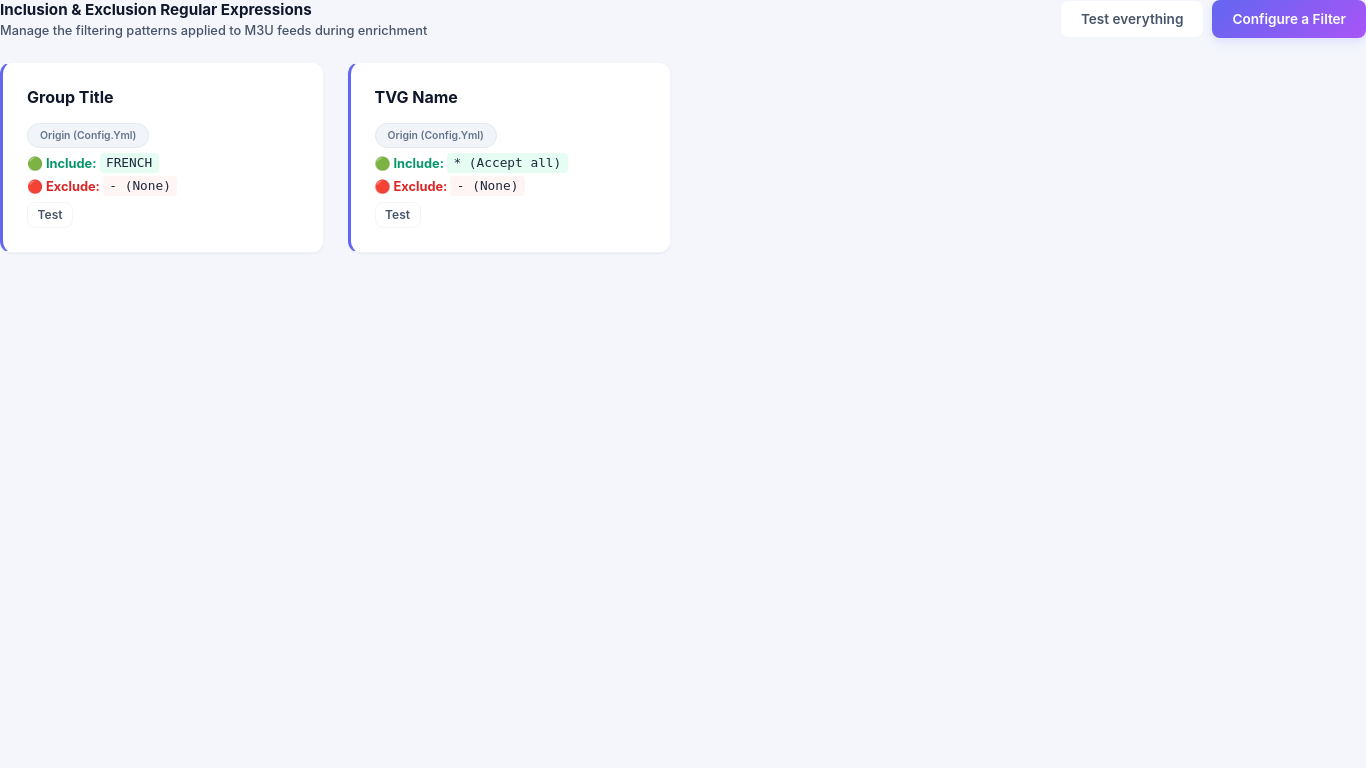
Scenario: FiltersSection › dry-run testing › opens the shared drawer with the origin card's own patterns, without a save/delete request
The image size is (1366, 768).
Click the button "Test" below "FRENCH".
click(50, 215)  # box [27,202,73,228]
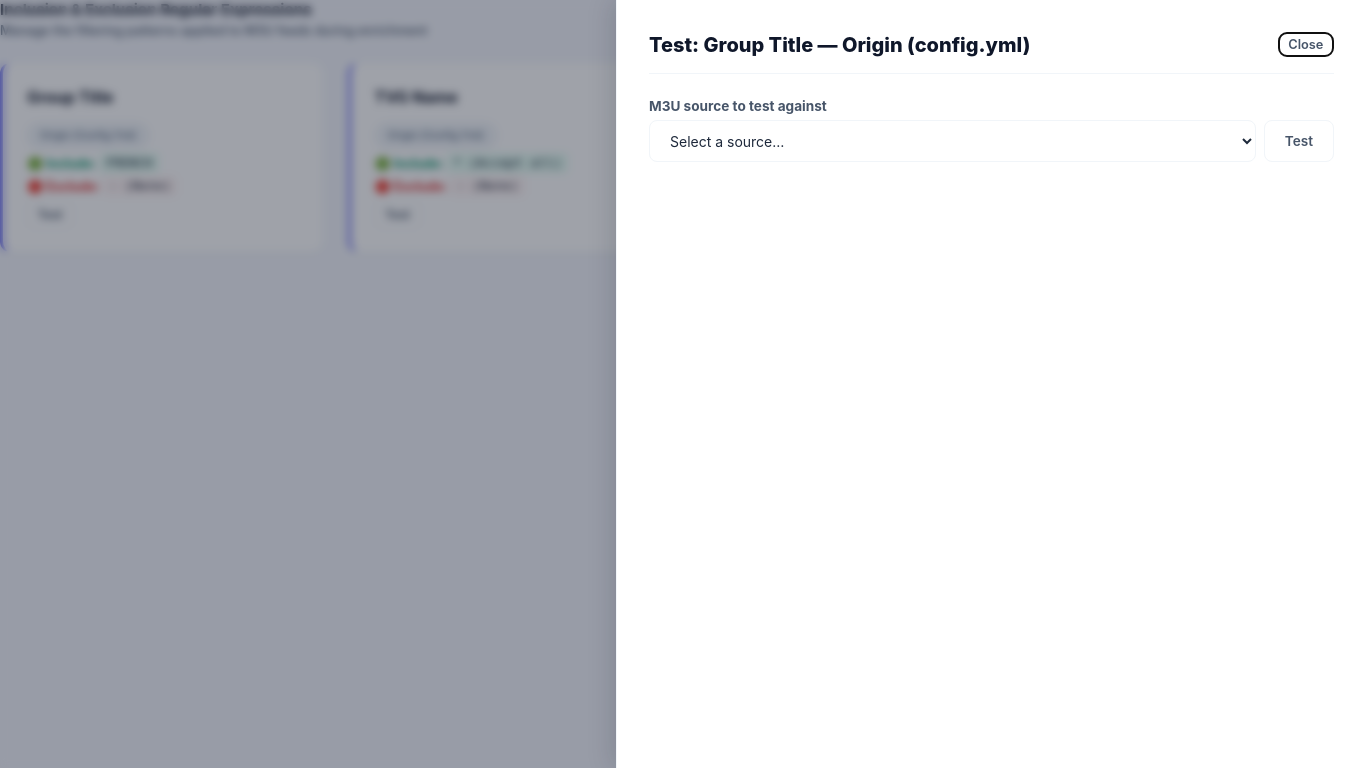
Expected: the heading "Test: Group Title — Origin (config.yml)" is shown, [649,32,1030,56]
